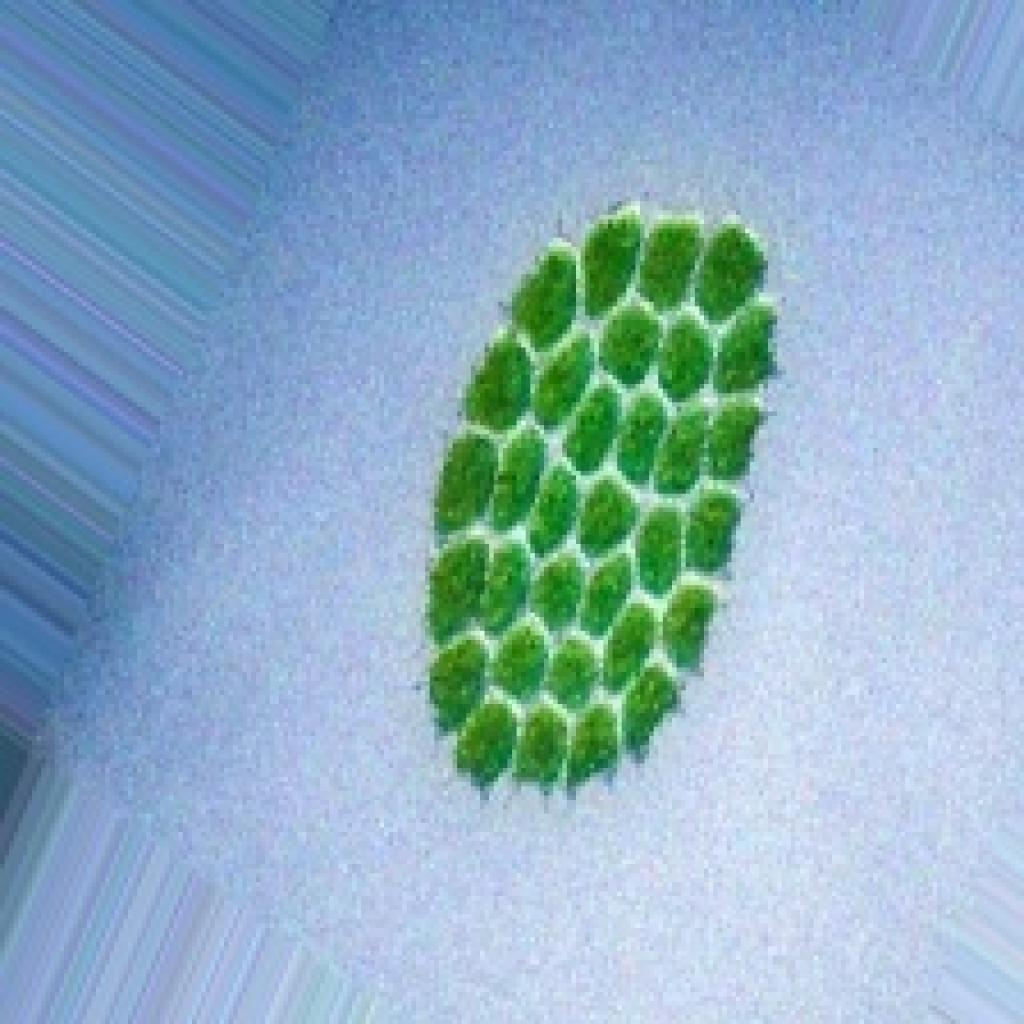Sphericalbacteria: (416, 192, 777, 800)
